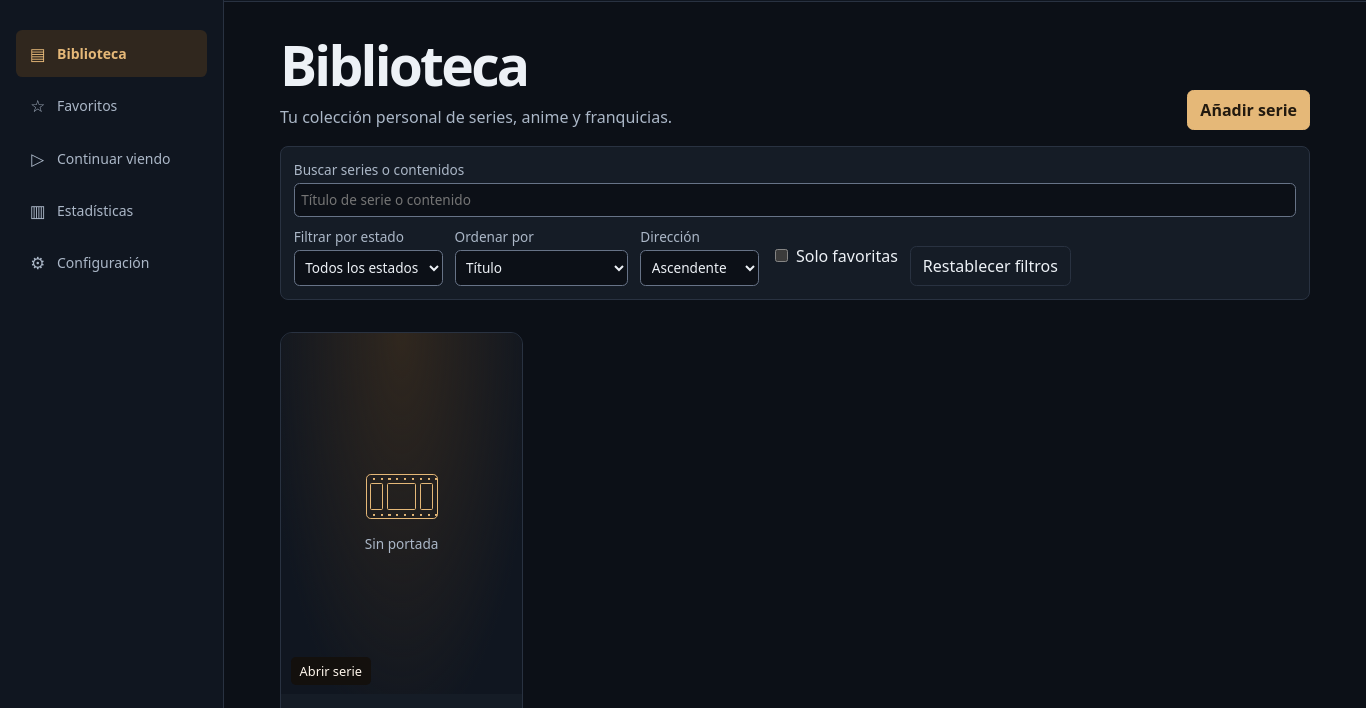
Scenario: MyList › confirms a manual reset and uses the active session for a rewatch
This screenshot has width=1366, height=708.
Click the button "Abrir serie": (402, 513) [281,333,522,694]
(page scrolled)
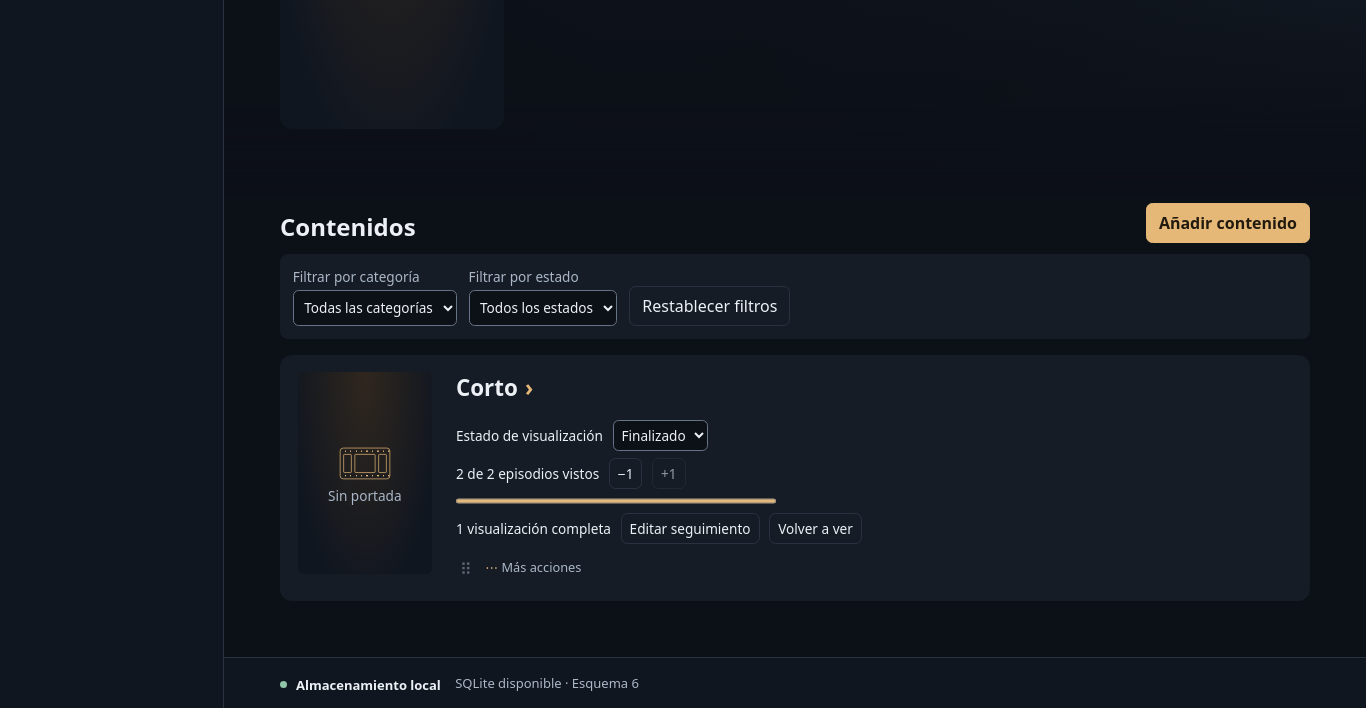
Select "Por ver" in the dropdown labelled "Estado de visualización": (660, 435) [612,420,708,451]
(page scrolled)
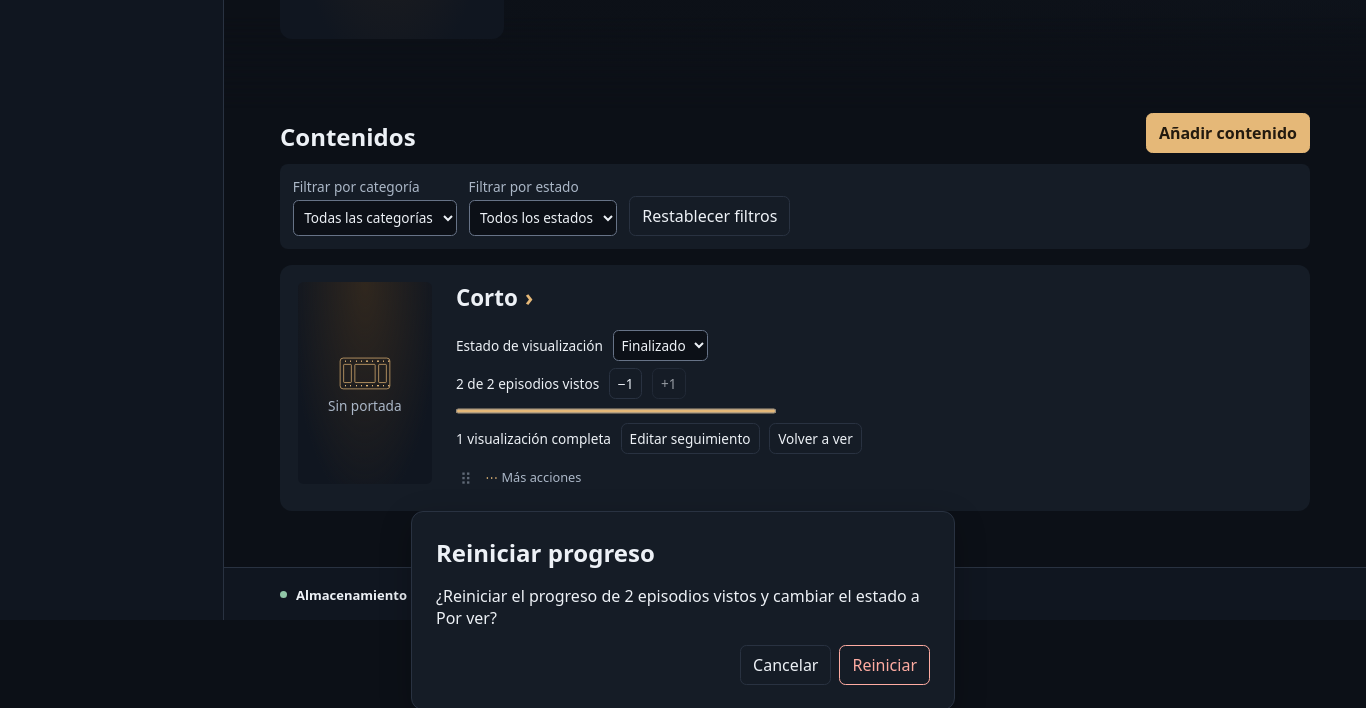
Click the button "Cancelar": (786, 665) [740,645,832,685]
(page scrolled)
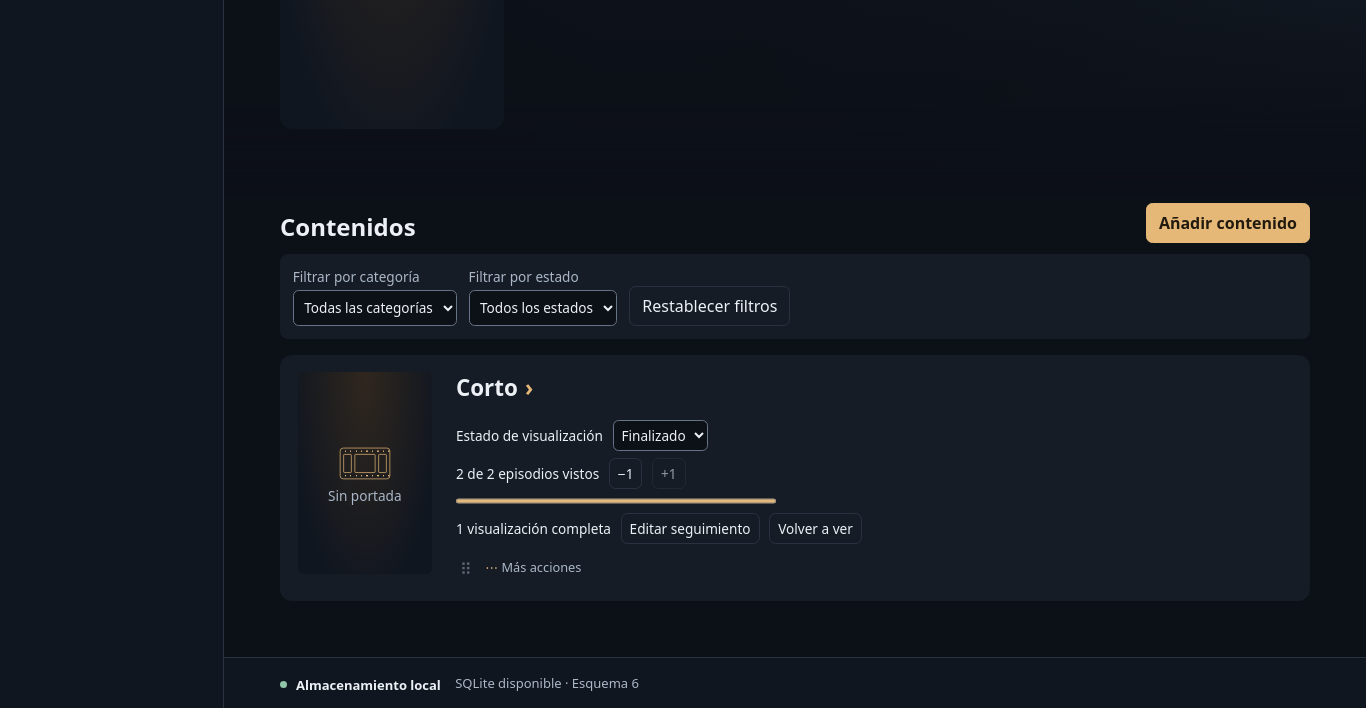
Expected: the text "2 de 2 episodios vistos" is shown, [456,464,599,483]
Select "Por ver" in the dropdown labelled "Estado de visualización": (660, 435) [612,420,708,451]
(page scrolled)
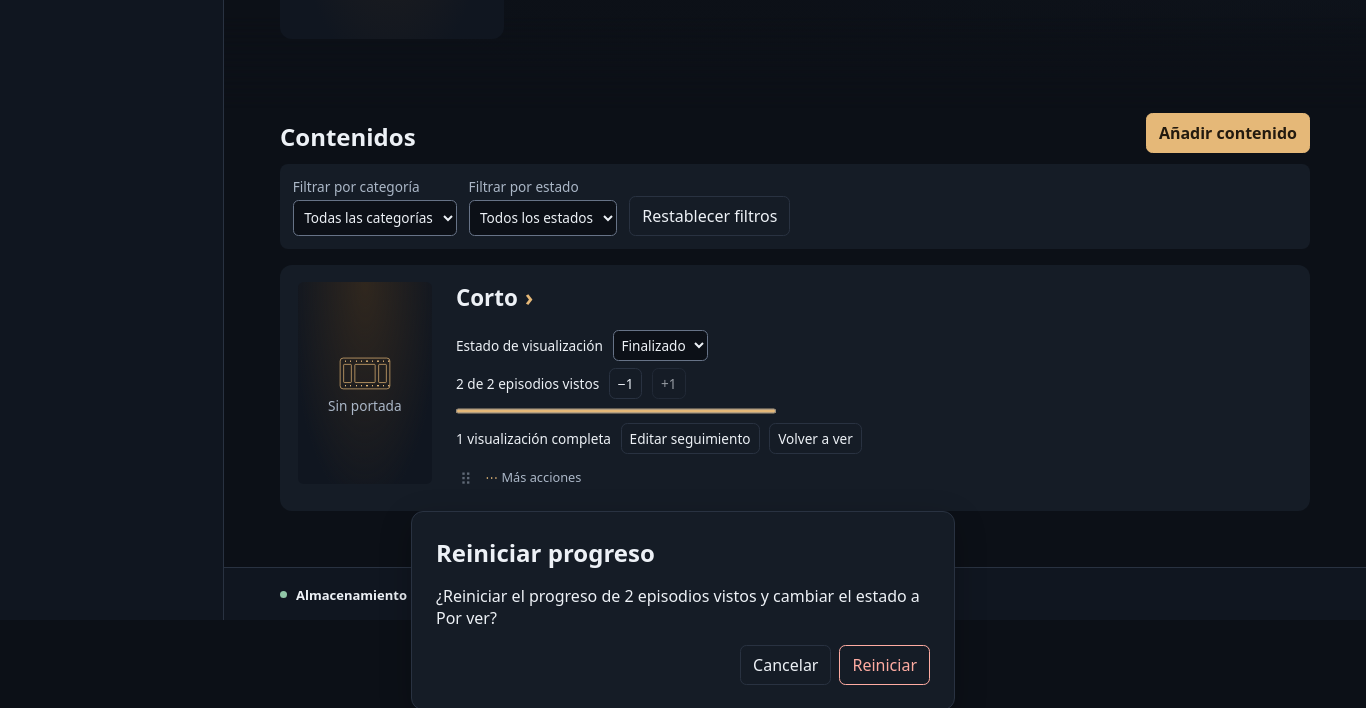
Click the button "Reiniciar": (885, 665) [840,645,930,685]
(page scrolled)
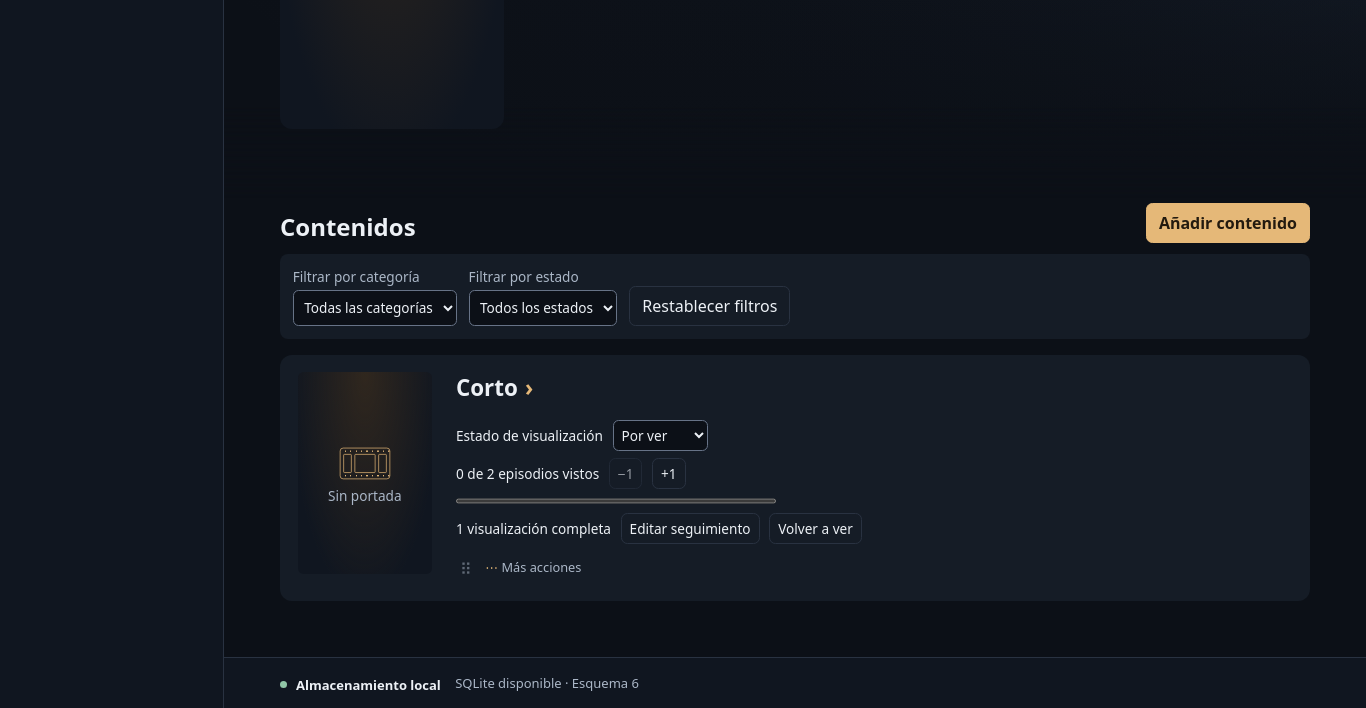
Expected: the text "0 de 2 episodios vistos" is shown, [456,464,599,483]
Click the button "Volver a ver": (816, 529) [769,513,862,544]
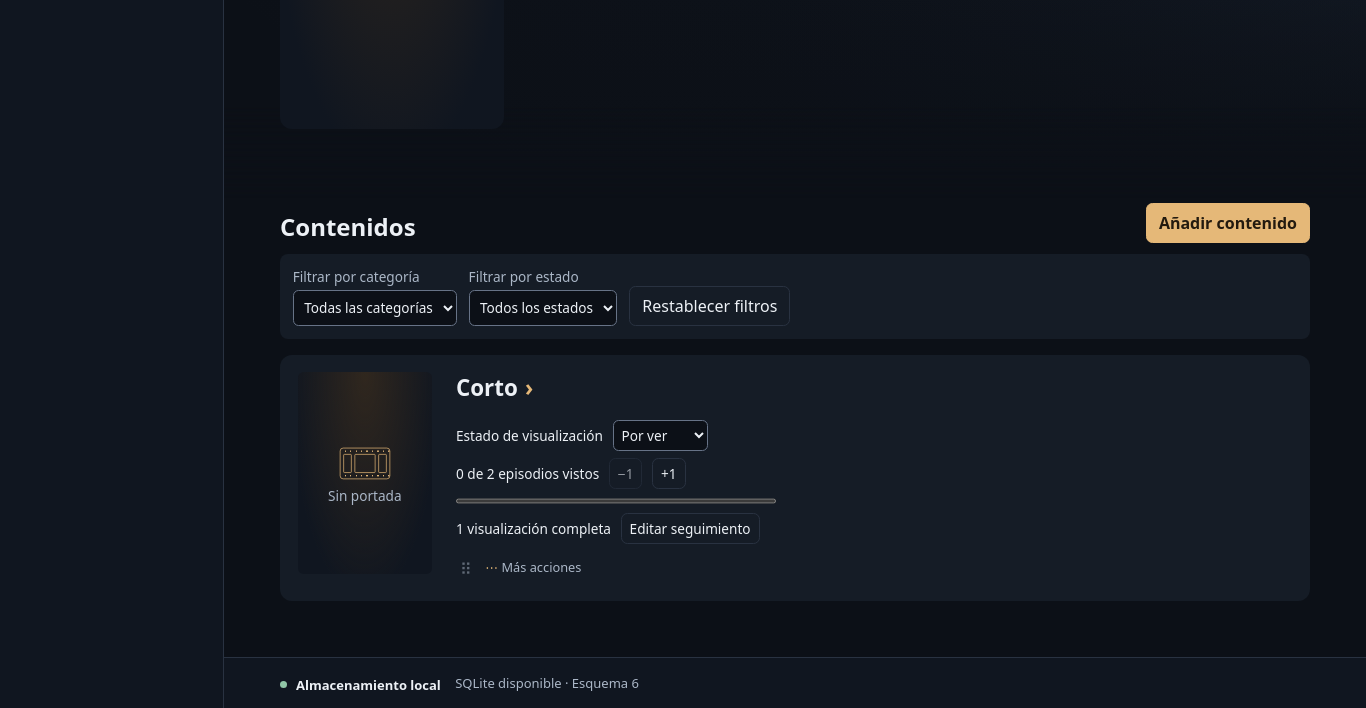
Expected: the text "1 visualización completa" is shown, [456,519,611,538]
Expected: the button "Volver a ver" is gone
